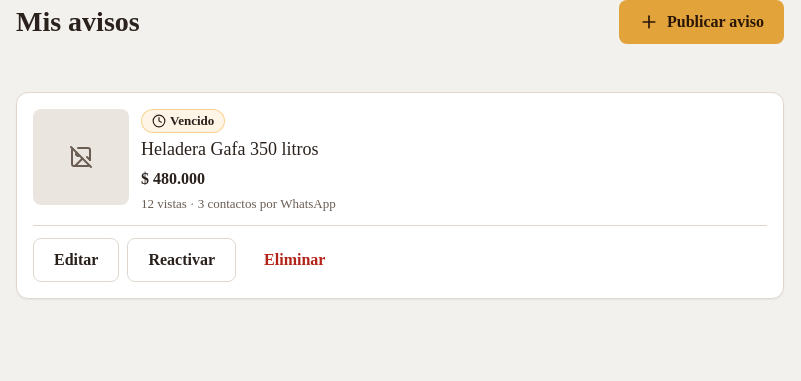
Test: MisAvisosPage — más estados y errores › reactiva un aviso y confirma el cambio
What coordinates should you click on to do the following:
click the button "Reactivar"
I would click on:
 (182, 260)
Its box is [128,238,236,282].
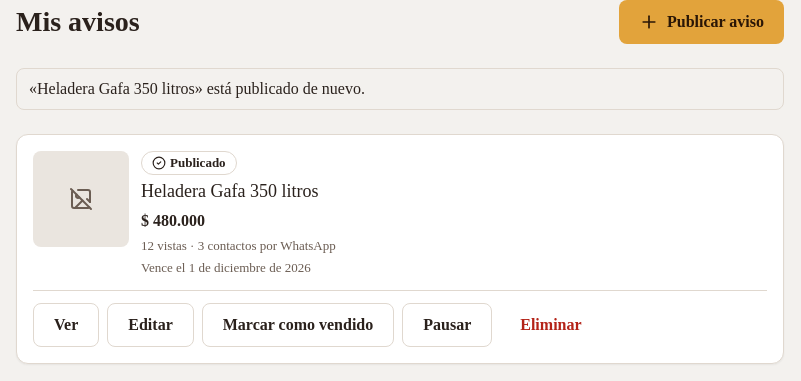
Check: the text "«Heladera Gafa 350 litros» está publicado de nuevo." is shown, box [16,68,784,110]
